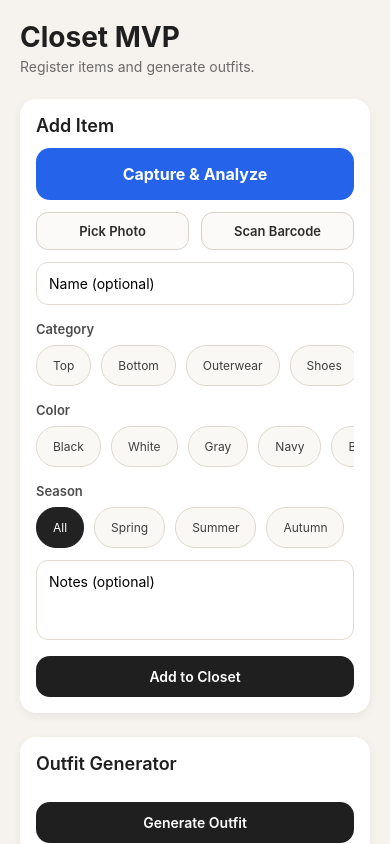
Scenario: App › generates outfit when items exist
# Add an item first
Click the text "Top".
click(64, 366)  # box [53,358,74,373]
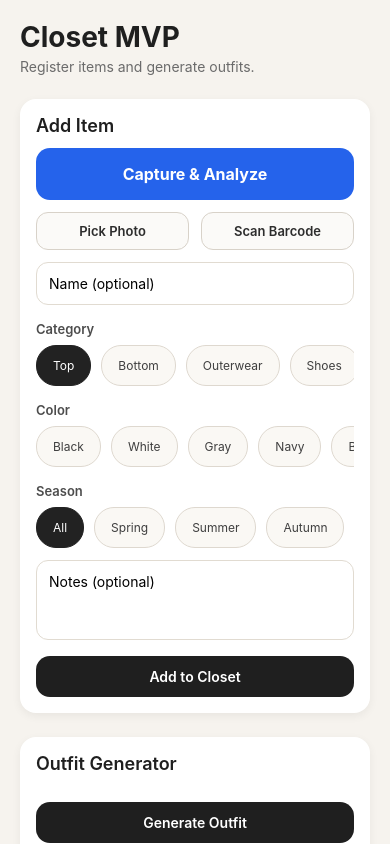
Click the text "Add to Closet".
click(195, 676)  # box [149,668,241,685]
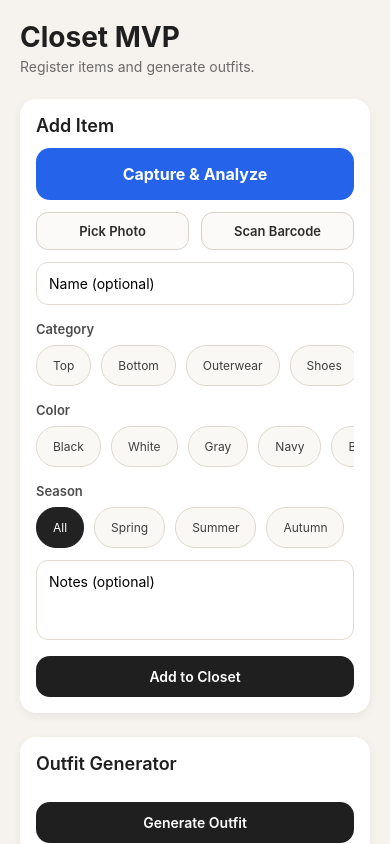
# Generate outfit
Click the text "Generate Outfit".
click(195, 822)  # box [143,814,247,831]
(page scrolled)
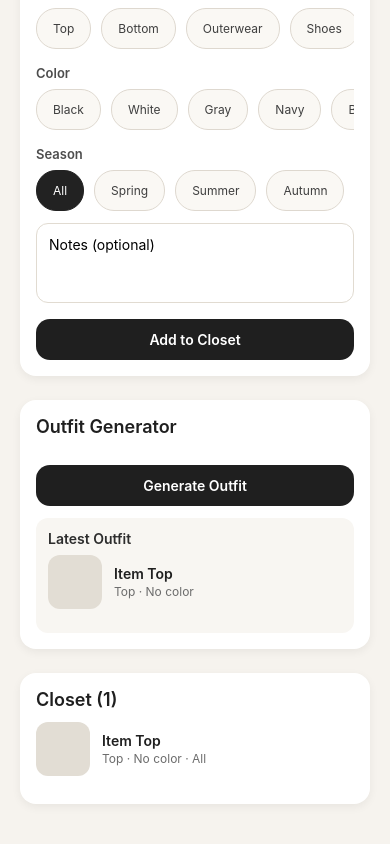
Result: the text "Latest Outfit" is shown at [48,530,131,547]
